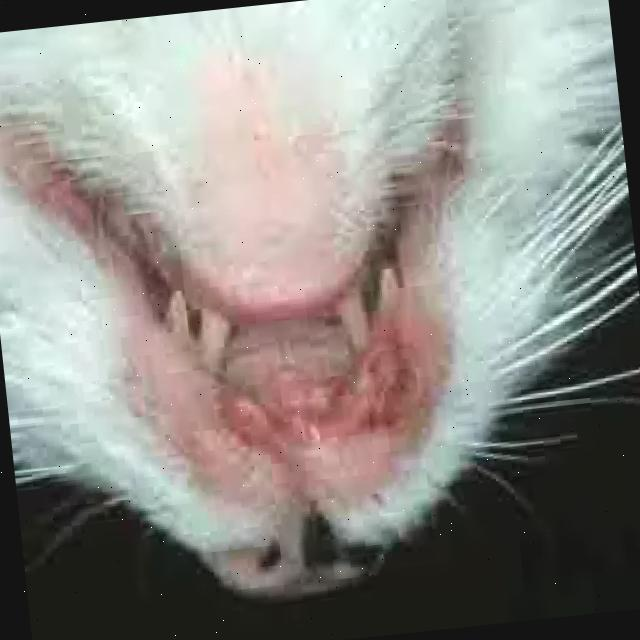cat-ulcer: (182, 346, 419, 486)
